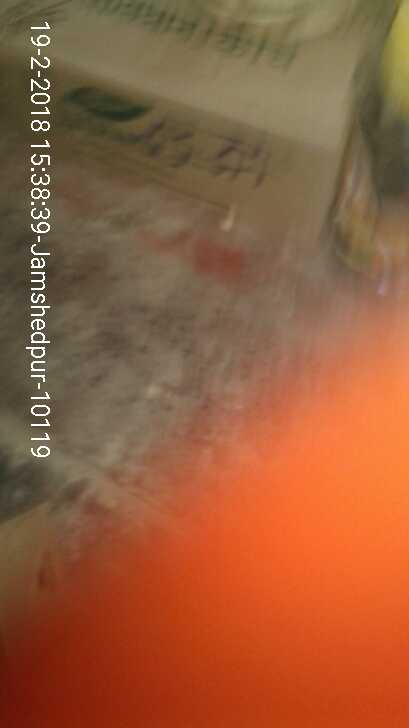reject: (197, 129, 347, 199)
